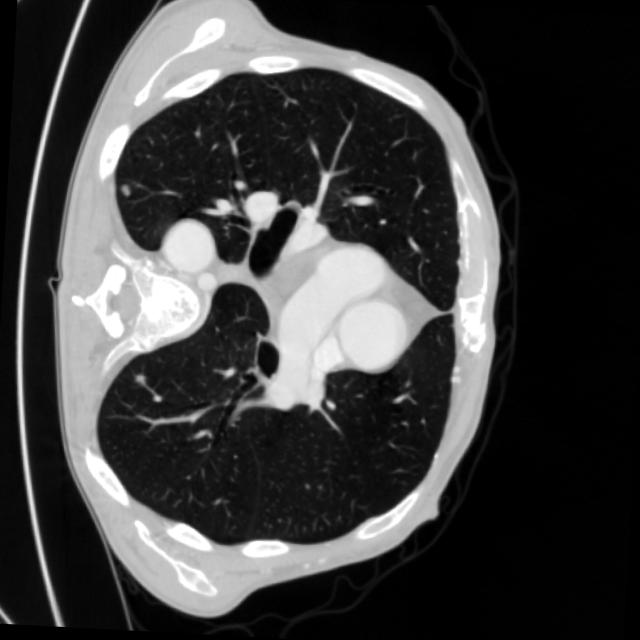nodule: (128, 368, 154, 393)
